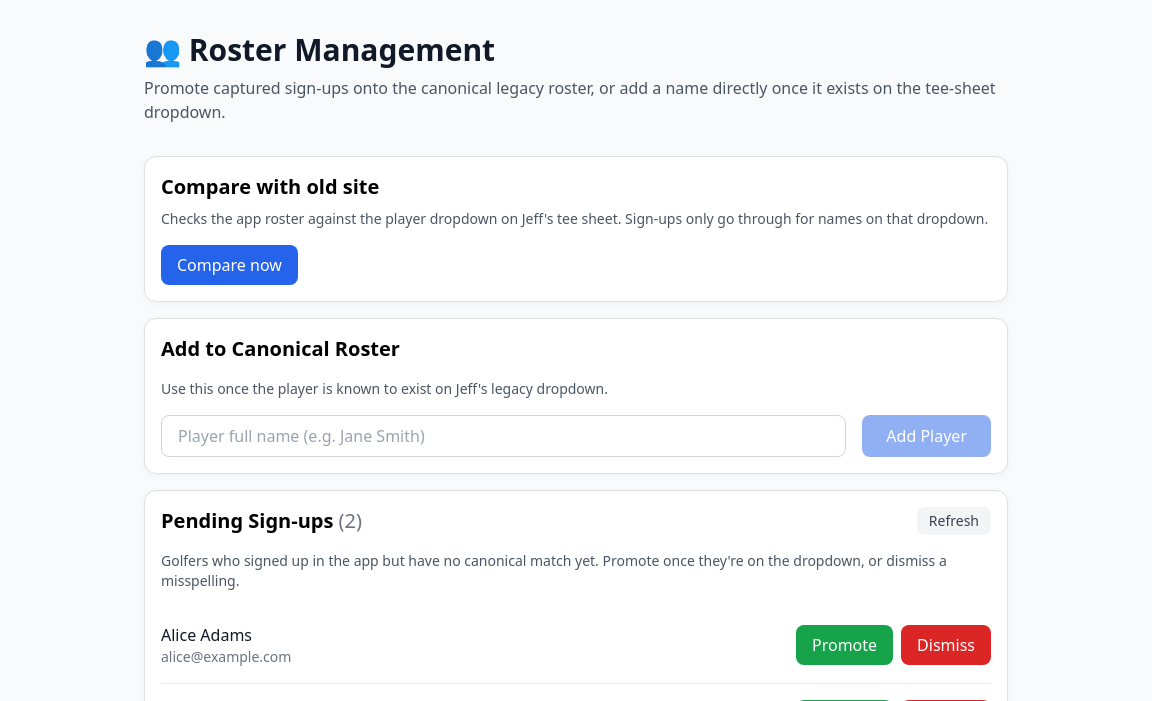
Test: RosterManager › ADD form POSTs the new name to the canonical roster
This screenshot has width=1152, height=701.
Expected: the list item with test id "pending-row-11" is shown, [161,624,991,666]
Type "Jane Smith" into the field labelled "Player full name" at (504, 436), box [161,415,846,457]
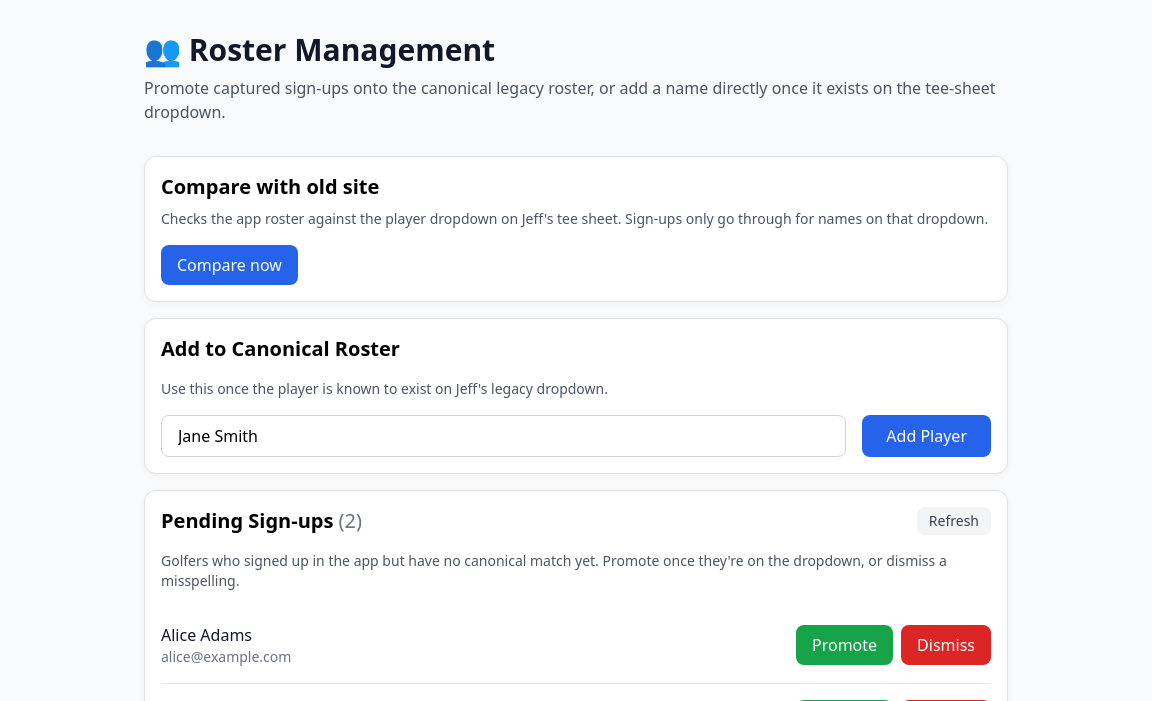
Click the button "Add Player" at (927, 436), box [862,415,991,457]
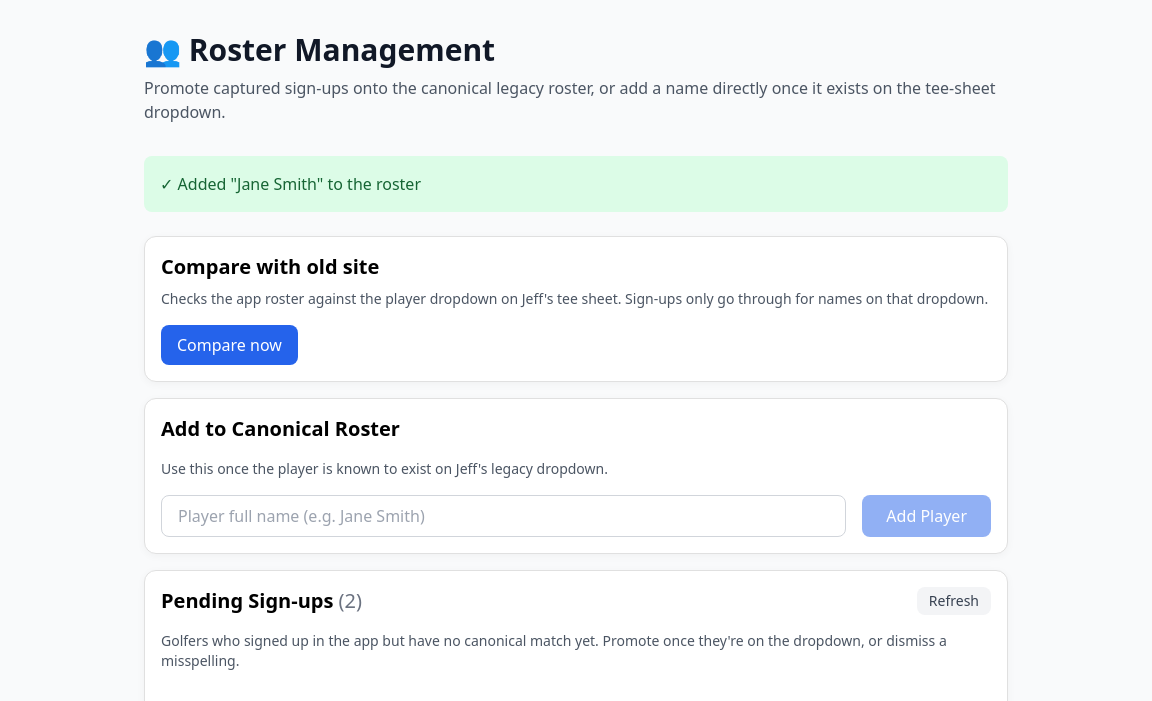
Result: the text with test id "roster-feedback" shows "Added" at [160,173,421,195]
